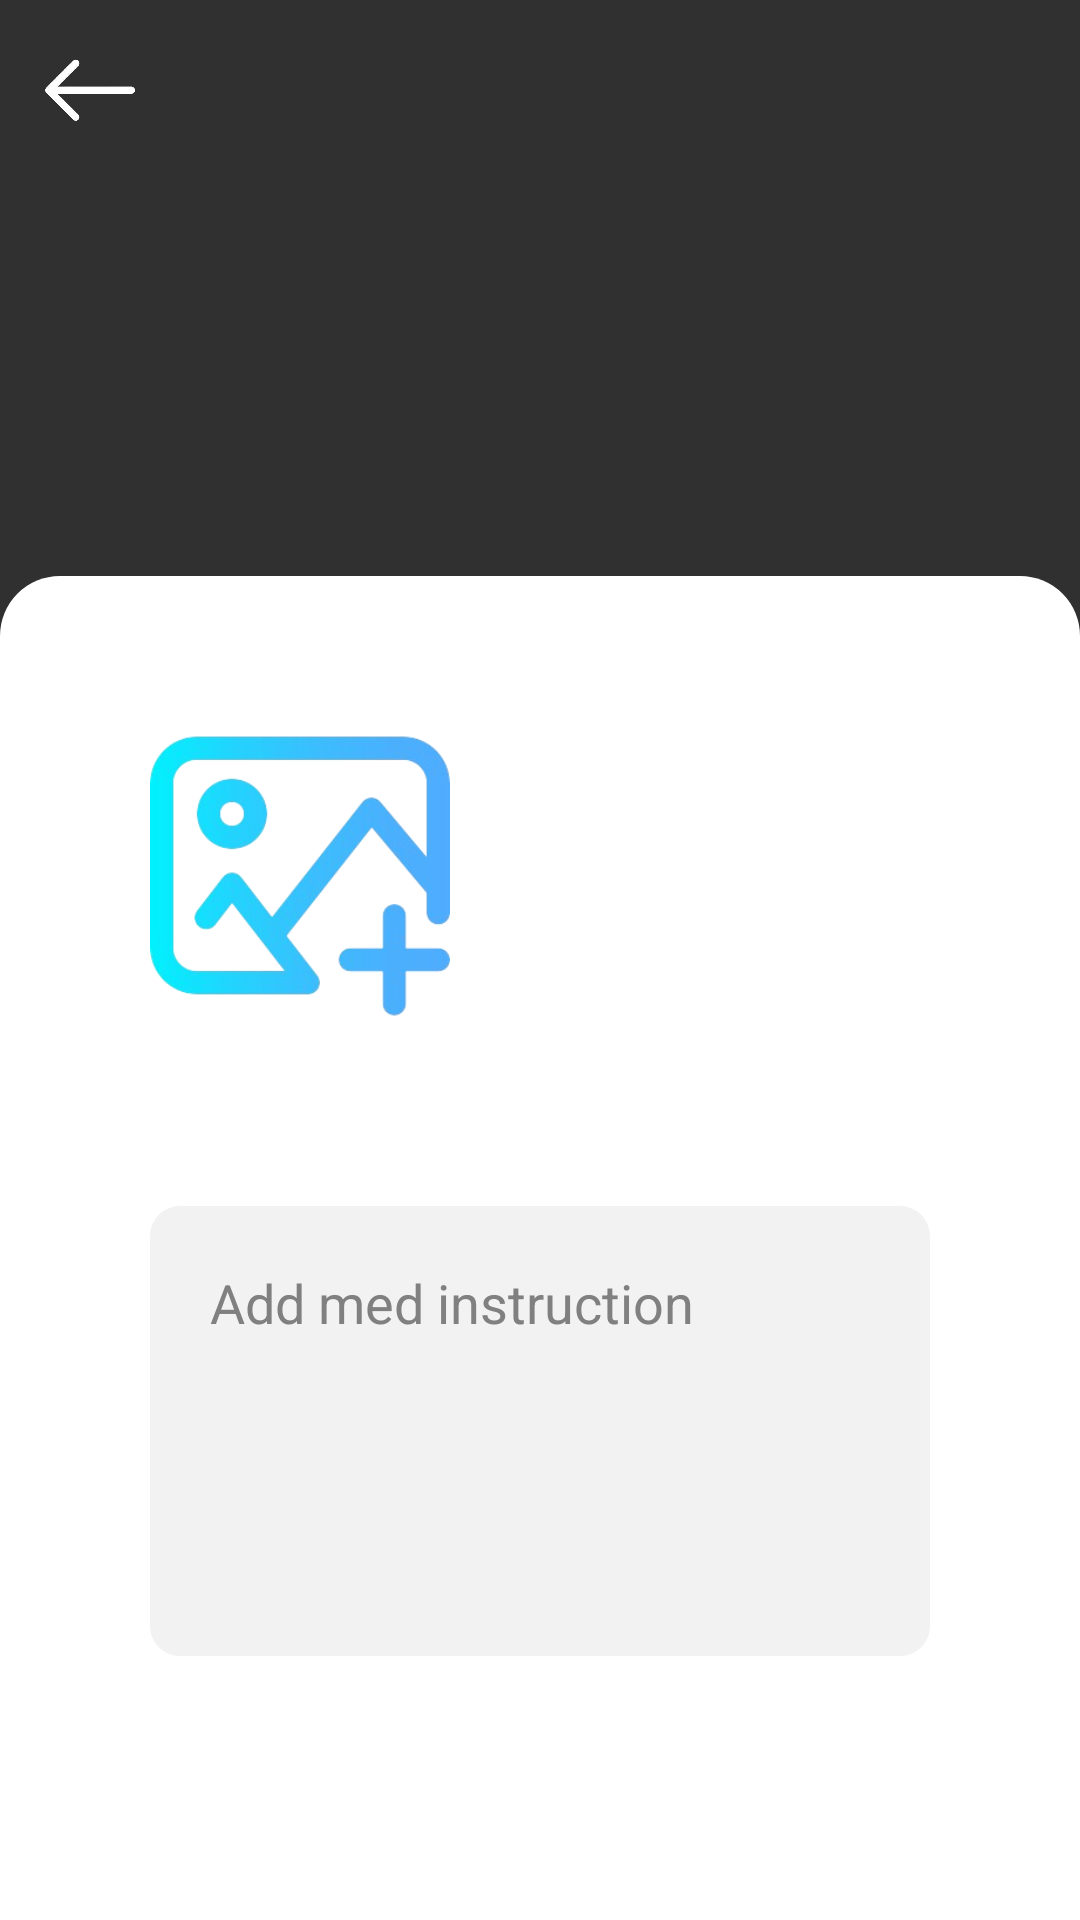

Icons on this 1080 x 1920 Android screen, each with the point to tap as (x=x, y=y):
add: (x=300, y=876)
back: (x=90, y=90)
